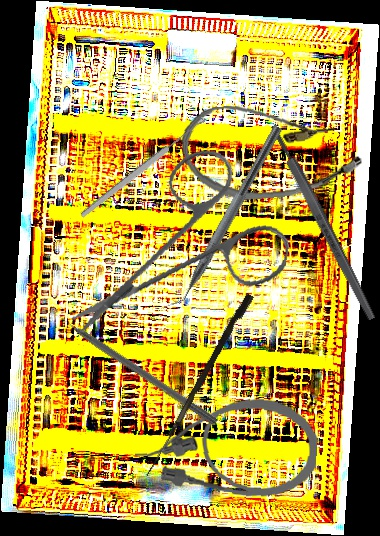Cannula: (132, 390, 321, 502), (178, 94, 365, 206)
Chopper: (159, 117, 284, 320)
Hook Surgical: (145, 291, 255, 481)
Iris Scissors: (70, 132, 303, 365)
Pusher: (46, 304, 220, 427)
Scalpel Handle: (267, 122, 378, 323)
Surgical Spoon: (78, 115, 209, 220)
